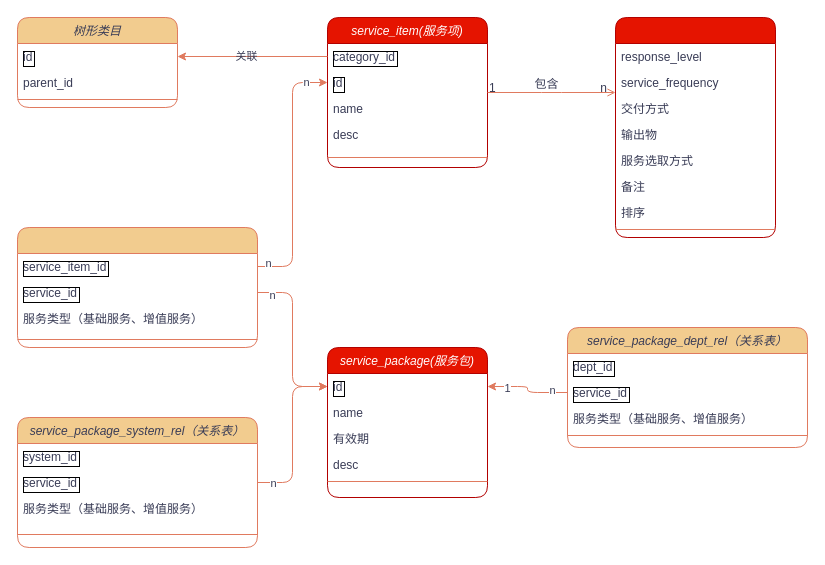
Image size: 825x565. Some labels were removed from this diagram. Here are the shapes that lost their labels. From the top down, the box of each, then its label:
(614, 16, 776, 238): service_item_plan(服务方案)
(16, 226, 258, 348): service_package_item_rel（关系表）
